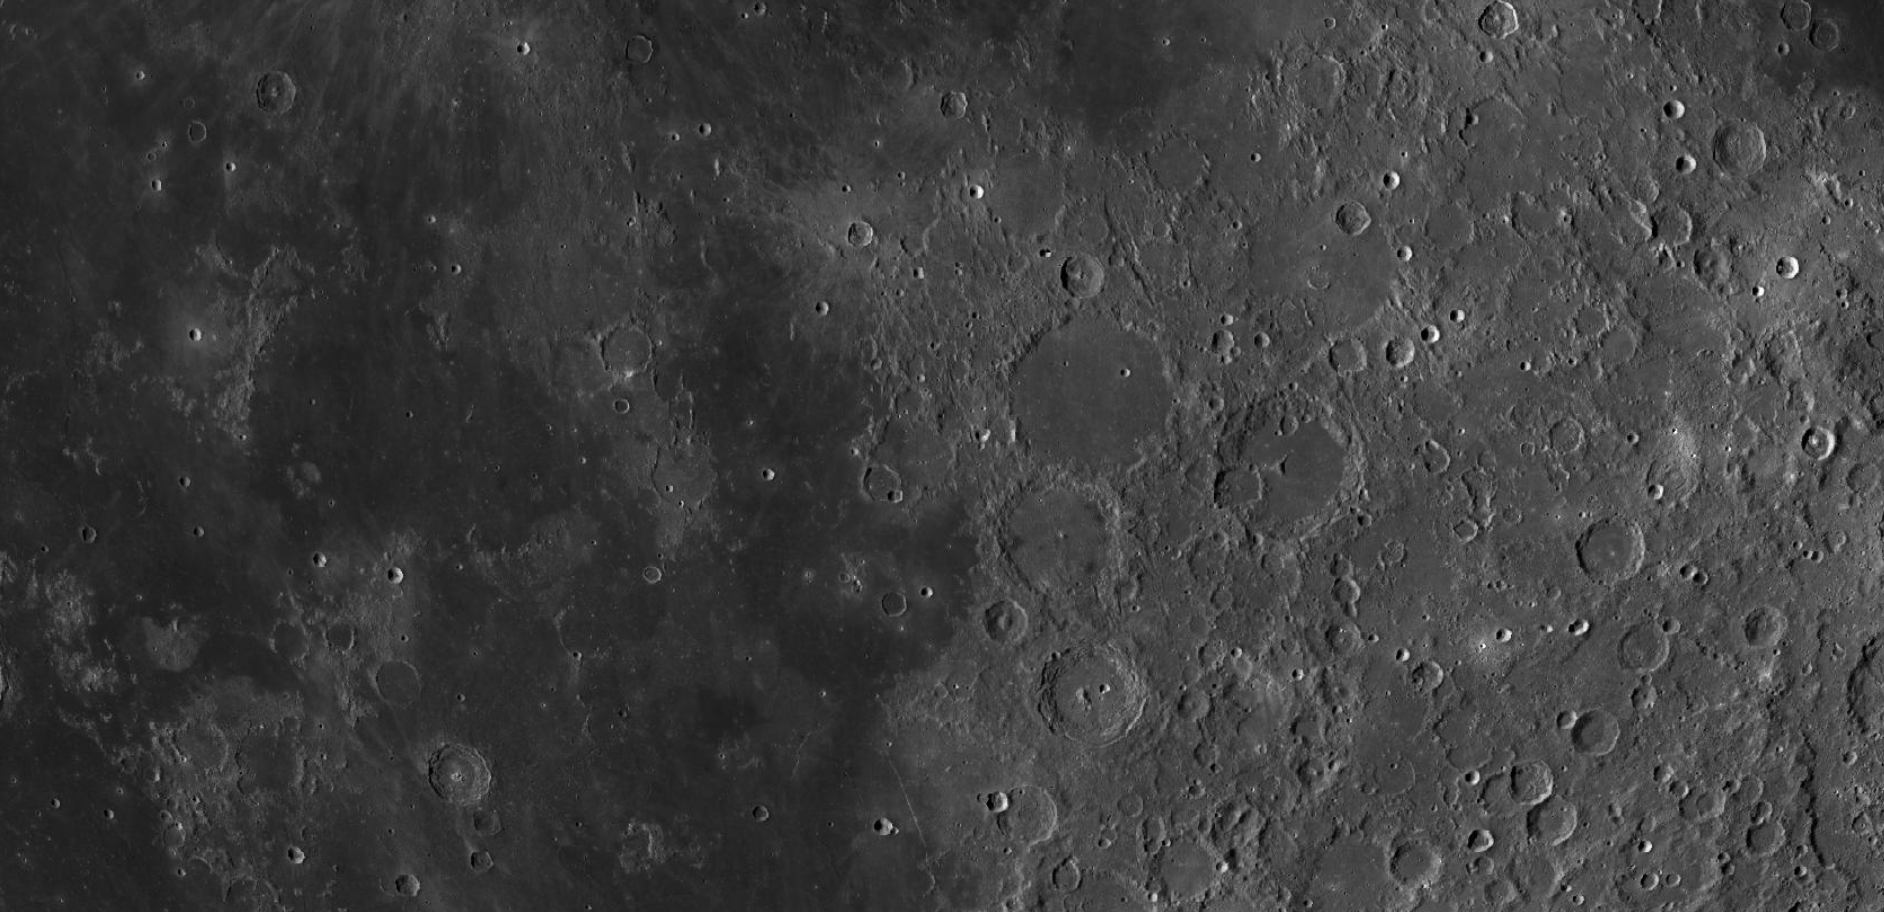crater: (971, 300, 1205, 517), (1009, 636, 1161, 756), (1542, 513, 1651, 600), (568, 300, 668, 385), (403, 735, 512, 811), (1298, 172, 1377, 274), (211, 62, 327, 129), (602, 18, 675, 87), (1760, 242, 1812, 292)
